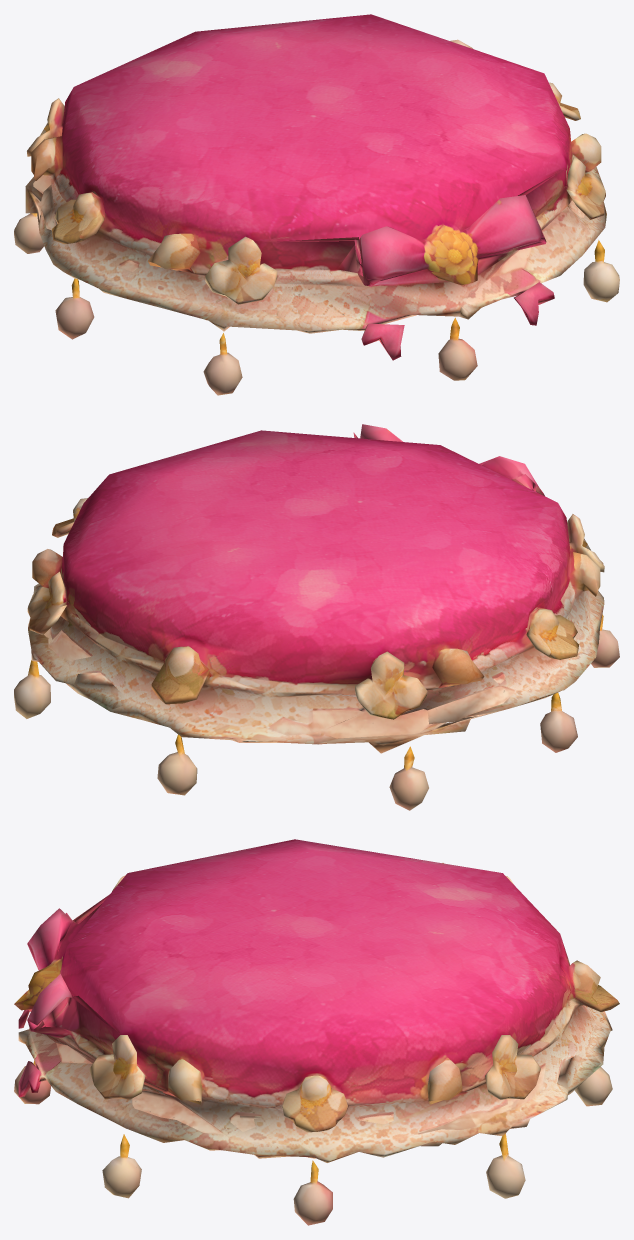
The picture shows the model from 3 angles, top to bottom: view 1: azimuth 30°, elevation 25°; view 2: azimuth 150°, elevation 25°; view 3: azimuth 270°, elevation 25°; orthographic projection.
Parts seen in each view (by area): view 1: tripo_node_82ef3004; view 2: tripo_node_82ef3004; view 3: tripo_node_82ef3004.
Boxes of the visible parts, <box> form: tripo_node_82ef3004: <box>14,14,619,395</box>; tripo_node_82ef3004: <box>14,424,619,810</box>; tripo_node_82ef3004: <box>14,839,619,1225</box>.
Bounding box in the file's own units: 1 × 0.3281 × 0.9961.
1 material, 1 textured.
